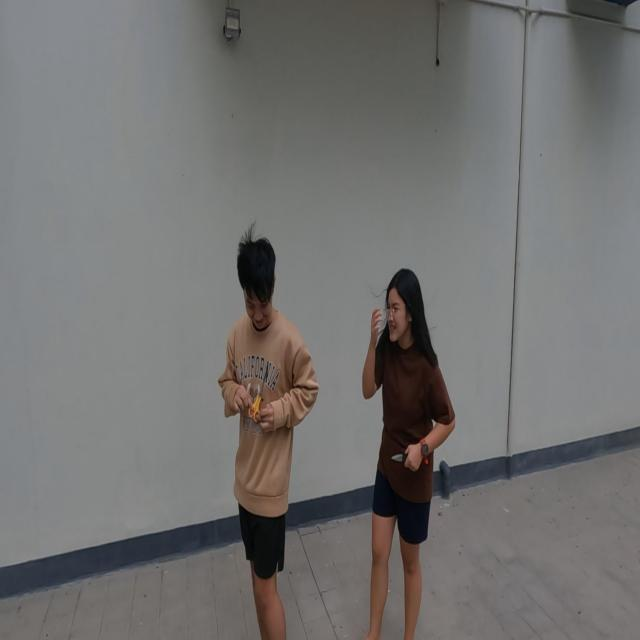scissor: (249, 368, 267, 424)
